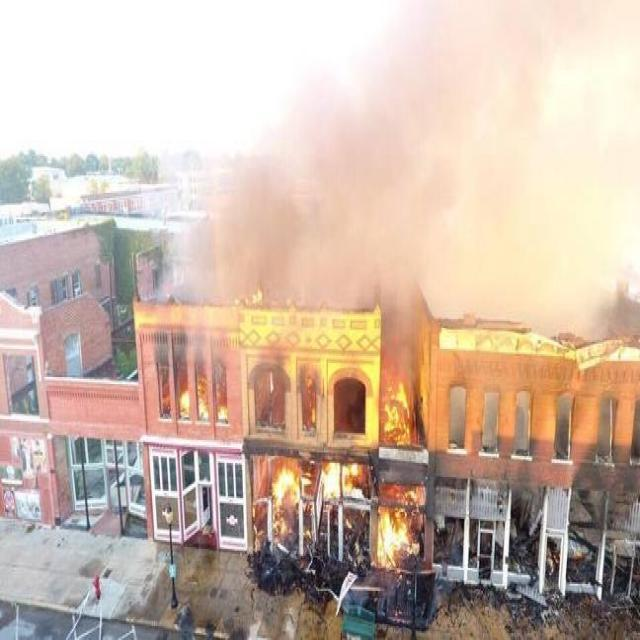Smoke: (336, 41, 630, 311)
